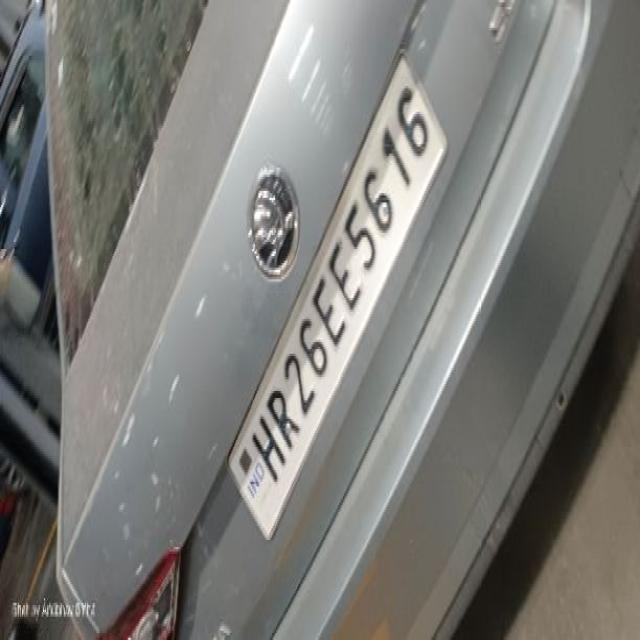license_plate: (40, 0, 630, 638), (224, 51, 448, 540)
